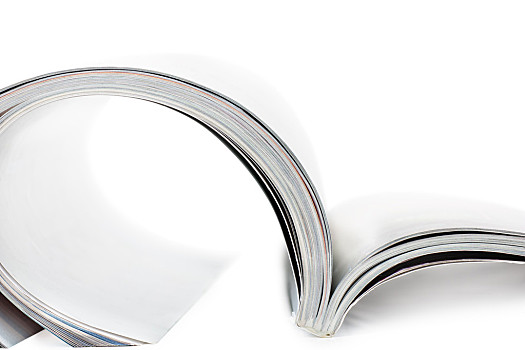book: (1, 67, 525, 350)
